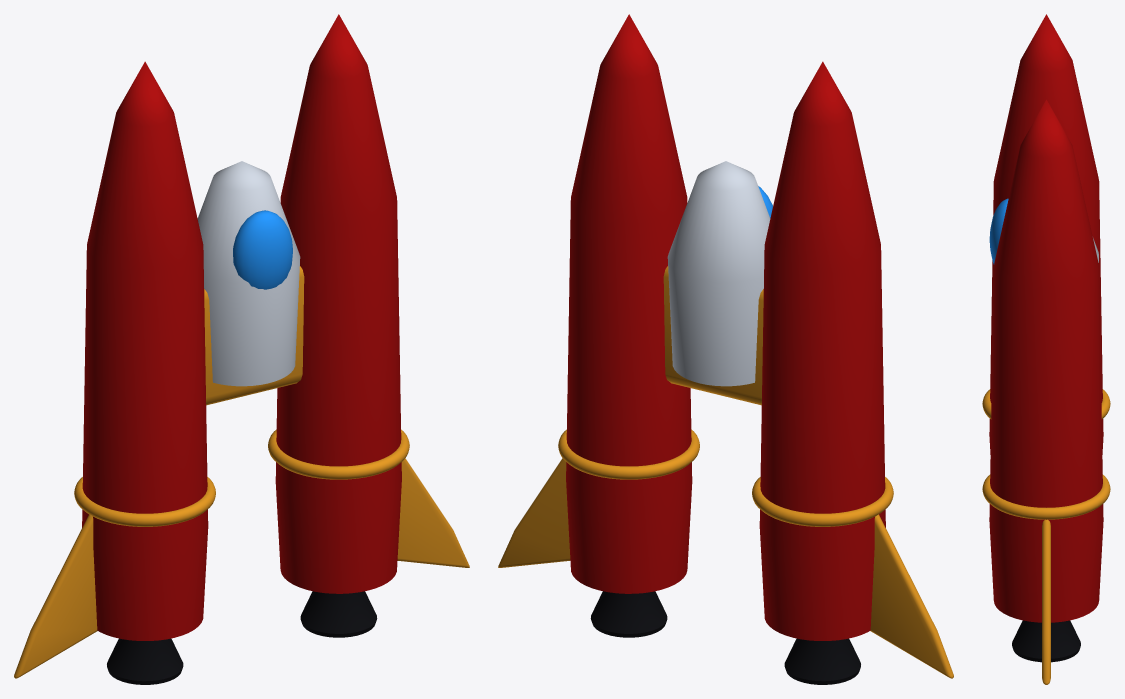
The model's file is Rocket_29_Catamaran.obj.
3 renders of one model, left to right at view 1: azimuth 30°, elevation 25°; view 2: azimuth 150°, elevation 25°; view 3: azimuth 270°, elevation 25°, orthographic. The views are drawn at different scales.
Parts seen in each view (by area): view 1: R29_Hull_2, R29_Hull, R29_Pod, R29_HullFin_2, R29_HullFin, R29_Cockpit, R29_Nozzle, R29_Nozzle_2, R29_Bridge, R29_HullBand_2, R29_HullBand; view 2: R29_Hull_2, R29_Hull, R29_Pod, R29_HullFin_2, R29_HullFin, R29_Nozzle, R29_Nozzle_2, R29_Bridge, R29_HullBand_2, R29_HullBand; view 3: R29_Hull, R29_Hull_2, R29_Nozzle, R29_HullBand, R29_HullFin, R29_Cockpit, R29_HullBand_2.
Boxes of the visible parts, left/top/right/bottom form: R29_Hull_2: left=82, top=61, right=208, bottom=640; R29_Hull: left=275, top=14, right=401, bottom=593; R29_Pod: left=197, top=161, right=300, bottom=386; R29_HullFin_2: left=14, top=514, right=97, bottom=678; R29_HullFin: left=397, top=458, right=469, bottom=567; R29_Cockpit: left=233, top=210, right=292, bottom=289; R29_Nozzle: left=300, top=591, right=377, bottom=637; R29_Nozzle_2: left=107, top=638, right=183, bottom=684; R29_Bridge: left=204, top=266, right=304, bottom=405; R29_HullBand_2: left=74, top=477, right=215, bottom=526; R29_HullBand: left=268, top=429, right=409, bottom=479; R29_Hull_2: left=759, top=61, right=885, bottom=640; R29_Hull: left=566, top=14, right=692, bottom=593; R29_Pod: left=667, top=161, right=770, bottom=386; R29_HullFin_2: left=870, top=514, right=953, bottom=678; R29_HullFin: left=498, top=458, right=570, bottom=567; R29_Nozzle: left=590, top=591, right=667, bottom=637; R29_Nozzle_2: left=784, top=638, right=860, bottom=684; R29_Bridge: left=663, top=266, right=763, bottom=405; R29_HullBand_2: left=752, top=477, right=893, bottom=526; R29_HullBand: left=558, top=429, right=699, bottom=479; R29_Hull: left=989, top=99, right=1103, bottom=622; R29_Hull_2: left=989, top=14, right=1103, bottom=454; R29_Nozzle: left=1012, top=620, right=1080, bottom=662; R29_HullBand: left=982, top=474, right=1110, bottom=519; R29_HullFin: left=1042, top=519, right=1050, bottom=684; R29_Cockpit: left=989, top=198, right=1008, bottom=264; R29_HullBand_2: left=982, top=389, right=1110, bottom=419.
Bounding box in the file's own units: 5.4 × 6.9 × 1.46.
